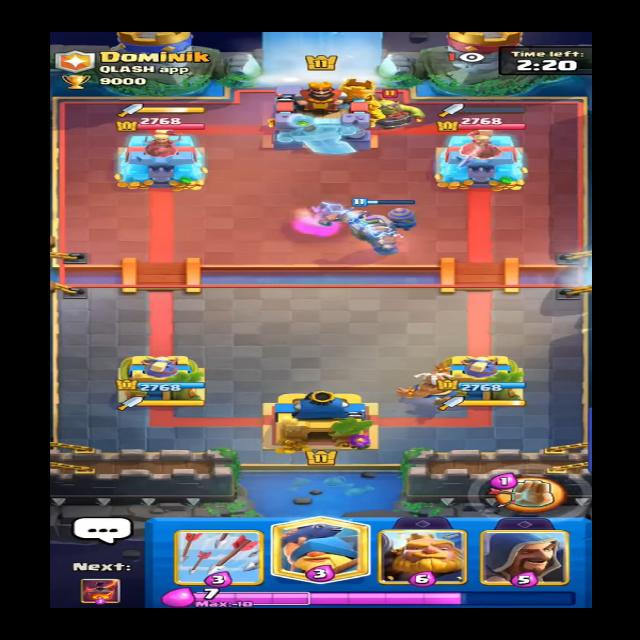goblin-demolisher: (359, 91, 428, 128)
